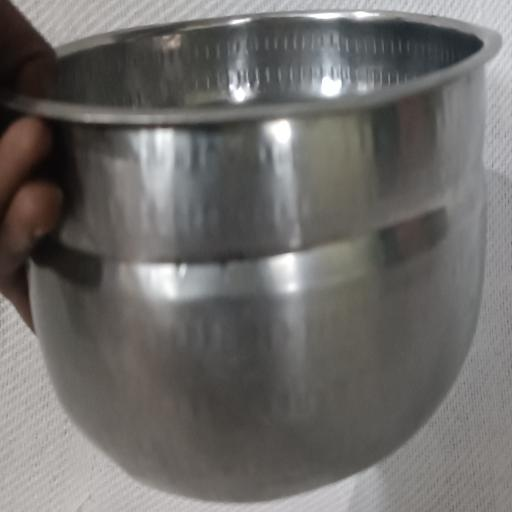vessel: (16, 12, 499, 500)
